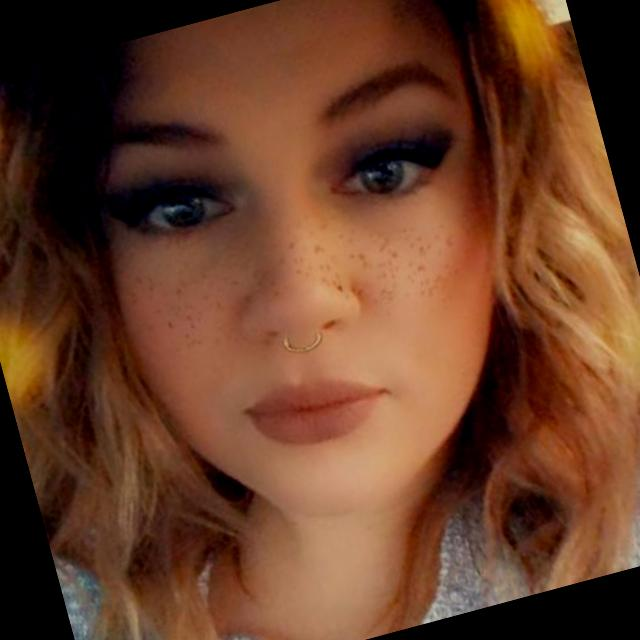freckle: (115, 172, 507, 382)
